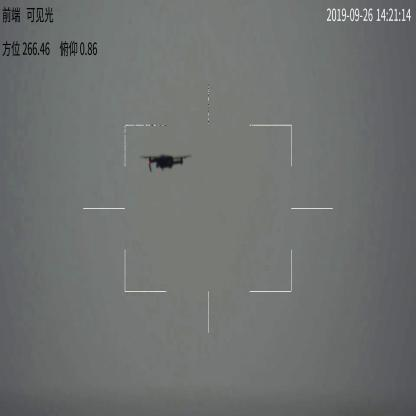uav: (139, 150, 193, 175)
